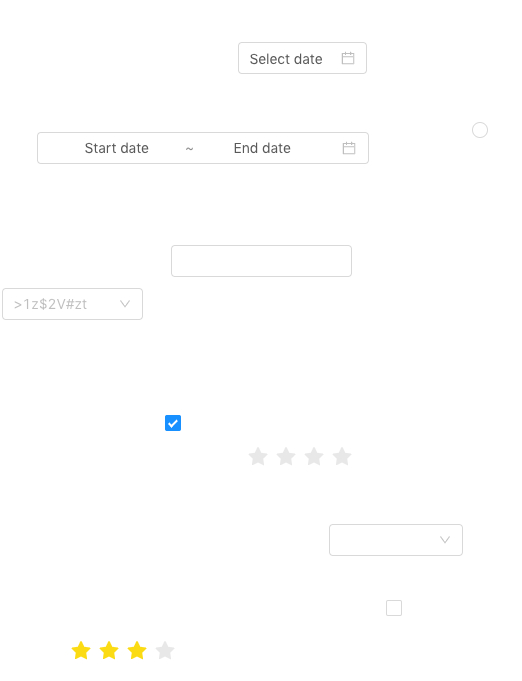Checkbox: (165, 412, 181, 433), (386, 597, 402, 618)
DatePicker: (238, 42, 367, 74)
Input: (171, 245, 352, 277)
Radio: (472, 119, 488, 139)
RangePicker: (37, 132, 385, 164)
Rate: (248, 440, 368, 472), (71, 634, 191, 666)
Select: (2, 288, 143, 320), (329, 524, 463, 556)
